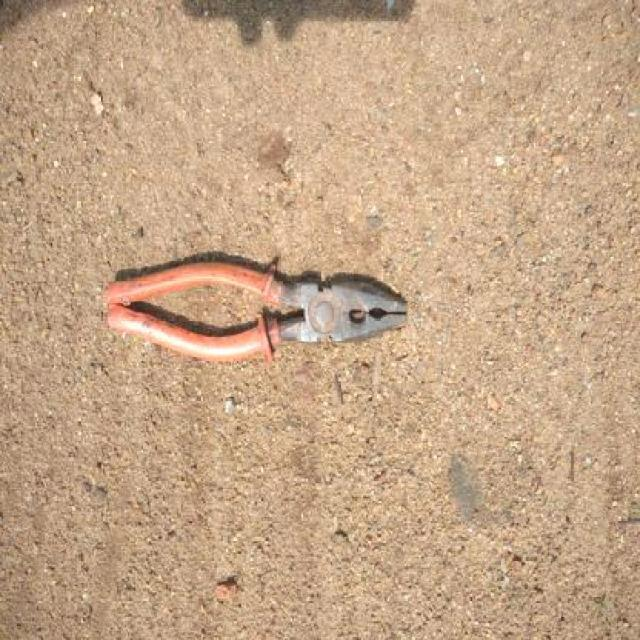pliers: (101, 248, 407, 361)
